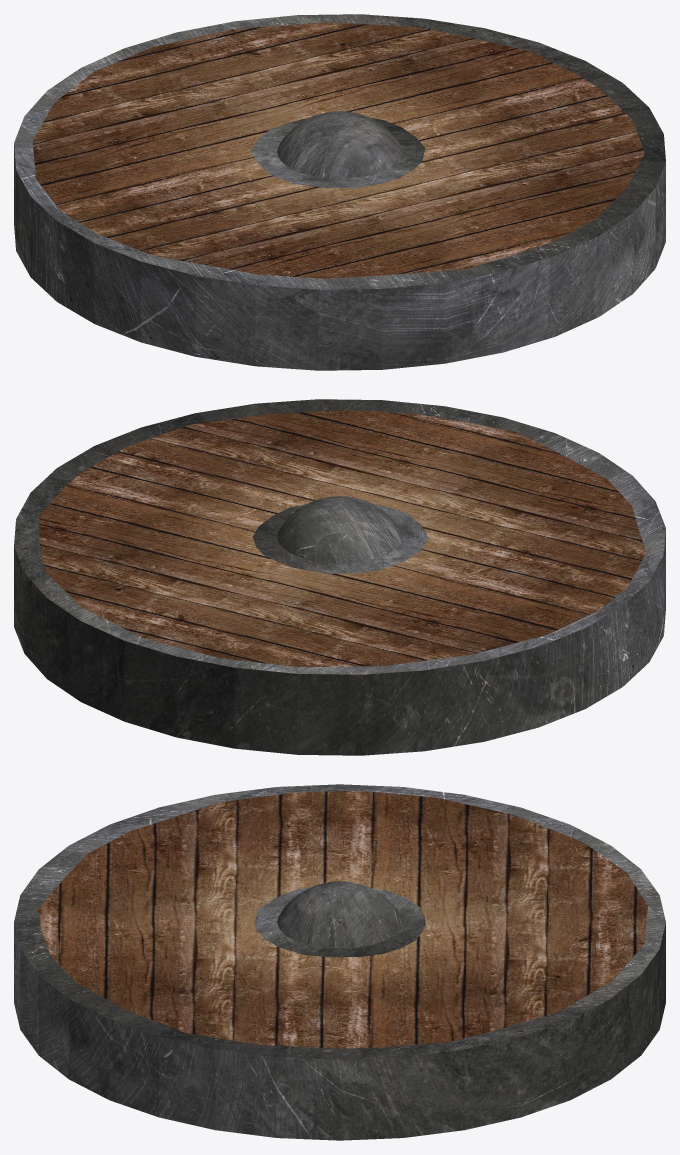
The model's file is Bouclier 1.fbx.
3 views of the same model, one above another, from view 1: azimuth 30°, elevation 25°; view 2: azimuth 150°, elevation 25°; view 3: azimuth 270°, elevation 25° (orthographic).
Parts seen in each view (by area): view 1: Cylinder.001; view 2: Cylinder.001; view 3: Cylinder.001.
Boxes of the visible parts, box(x1,y1,x2,y2) form: Cylinder.001: box(14, 14, 665, 370); Cylinder.001: box(14, 399, 665, 755); Cylinder.001: box(14, 784, 665, 1140).
Size of the model in its own units: 911 by 177 by 911.
